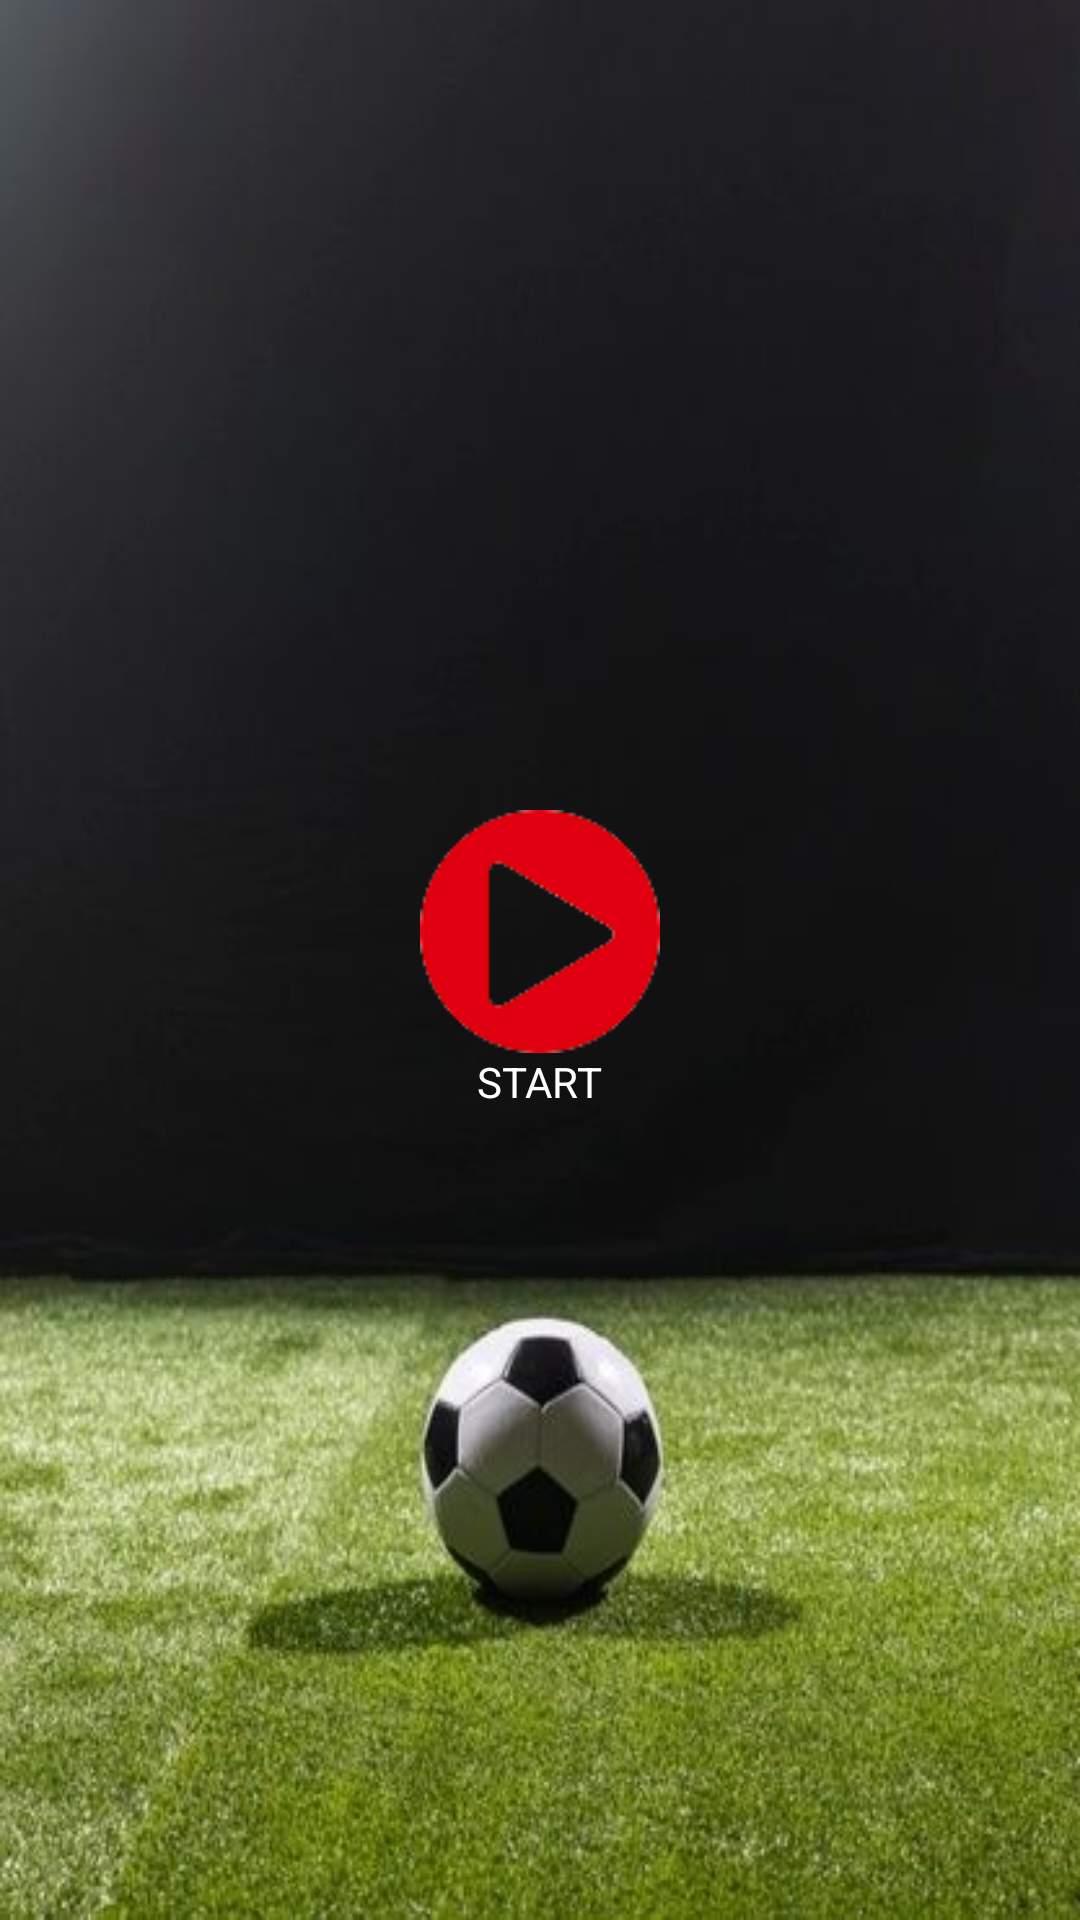

Icon click points for this 1080 x 1920 phone screenshot, format point (x, y):
play: point (540, 931)
